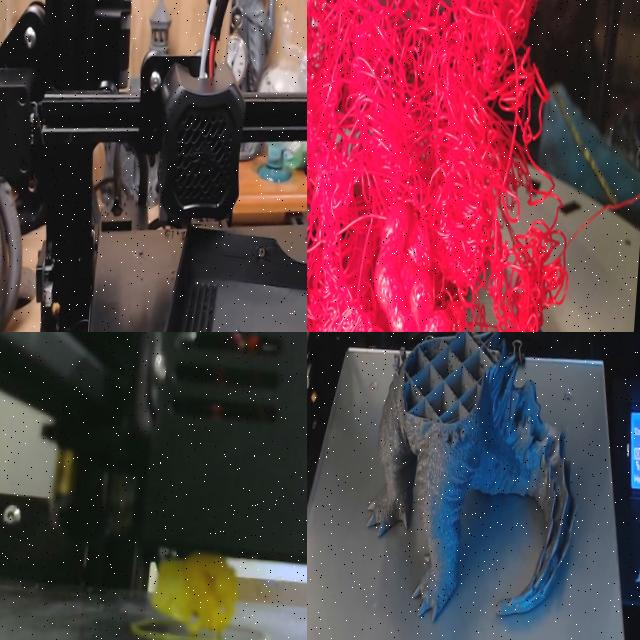spaghetti: (307, 0, 568, 332), (153, 553, 237, 634)
